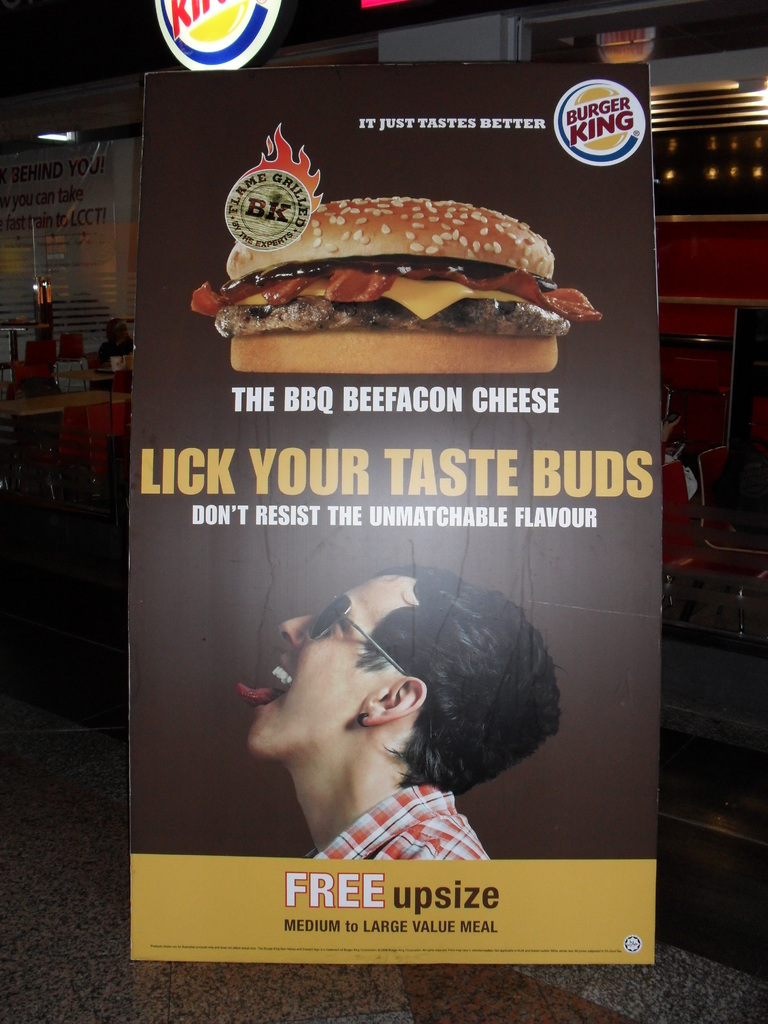Hamburger: (194, 198, 602, 378)
